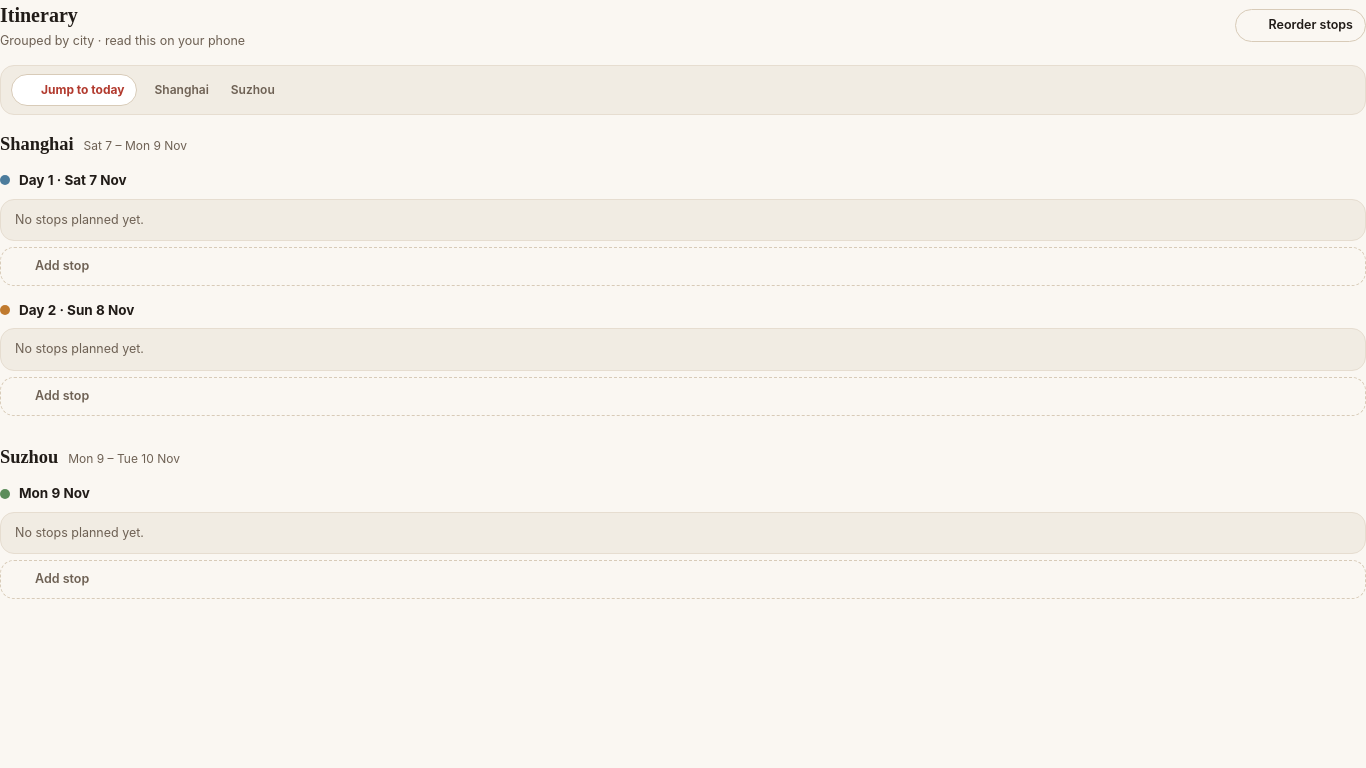
Test: ItineraryPanel — Add stop place picker › filters the offered places by the search box once it appears
Click the button "Add stop" below "Day 1 · Sat 7 Nov": (62, 266) [0, 247, 1365, 286]
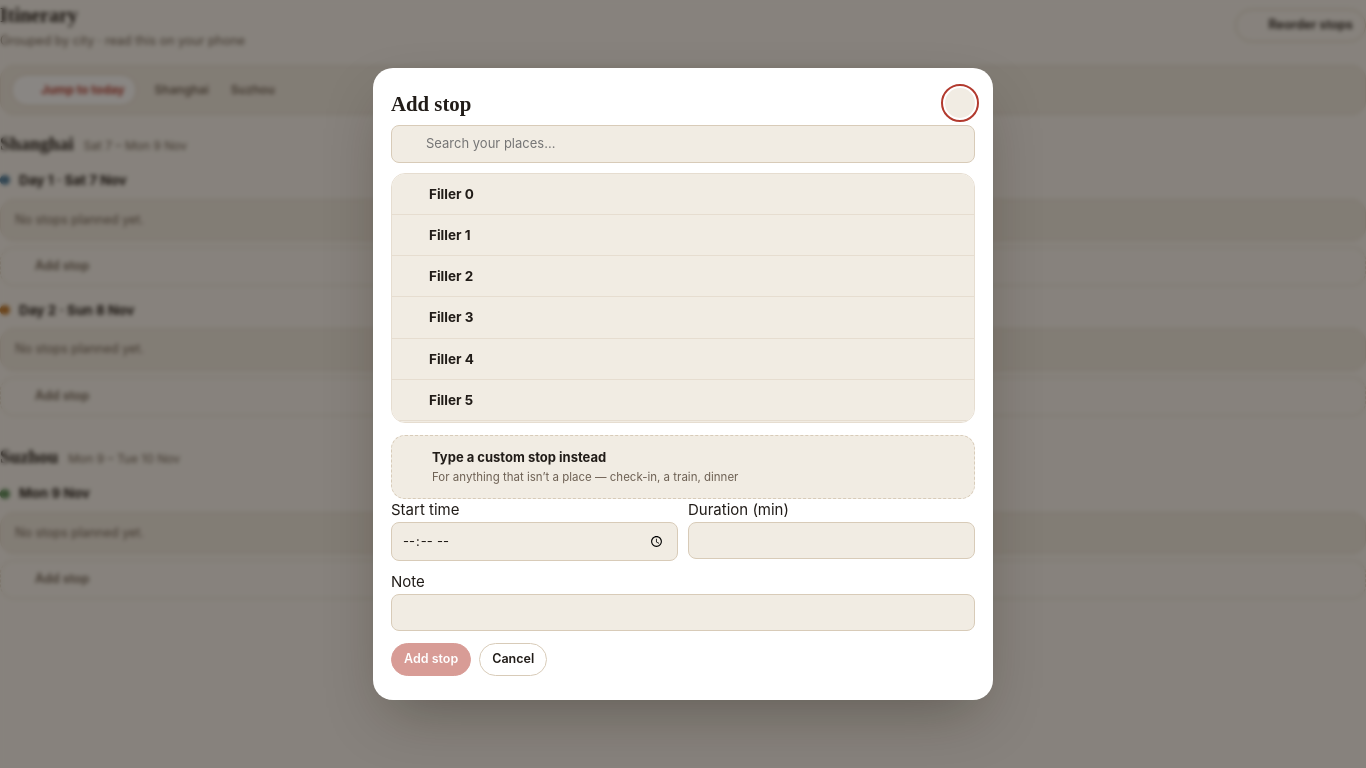
In the search field named "Filter places": (683, 144) [391, 125, 975, 163], type "bund"
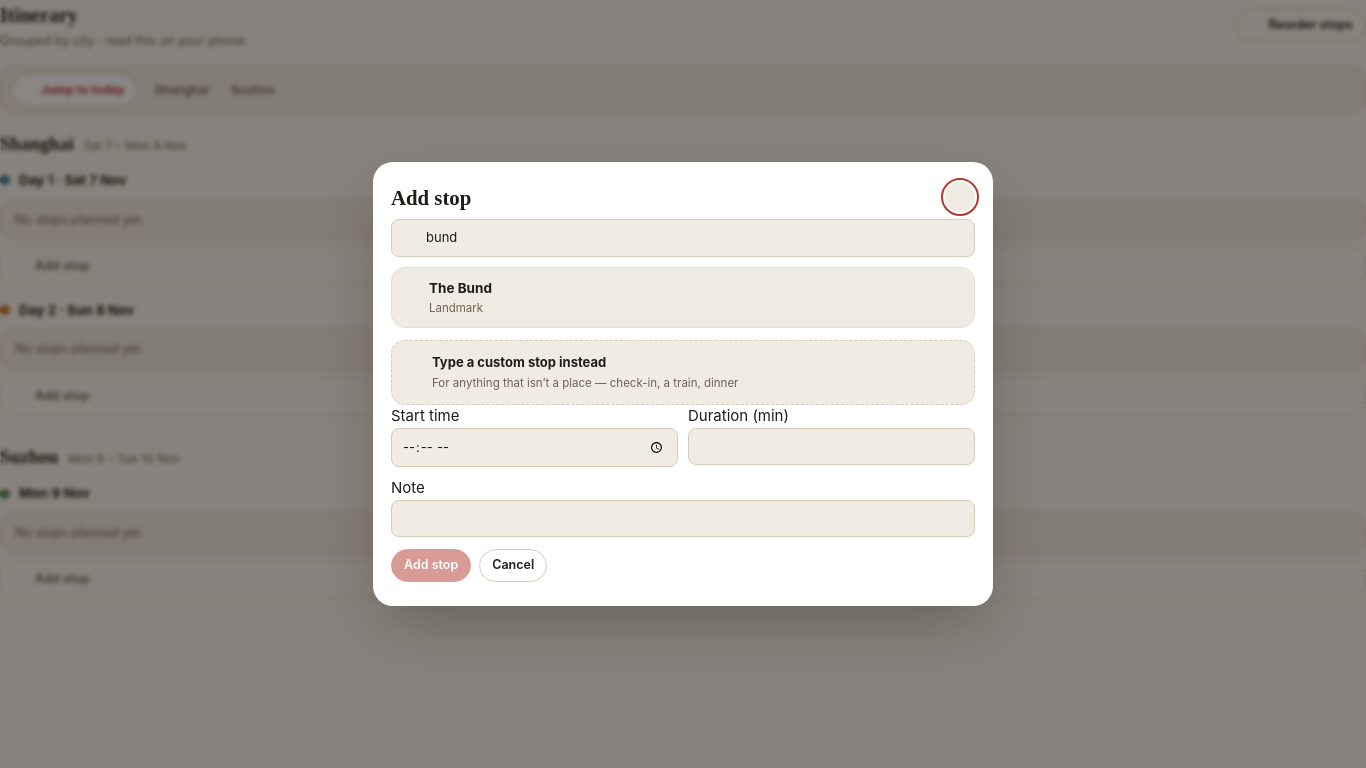
Replace the text in the search field named "Filter places" with "zzz": (683, 238) [391, 219, 975, 257]
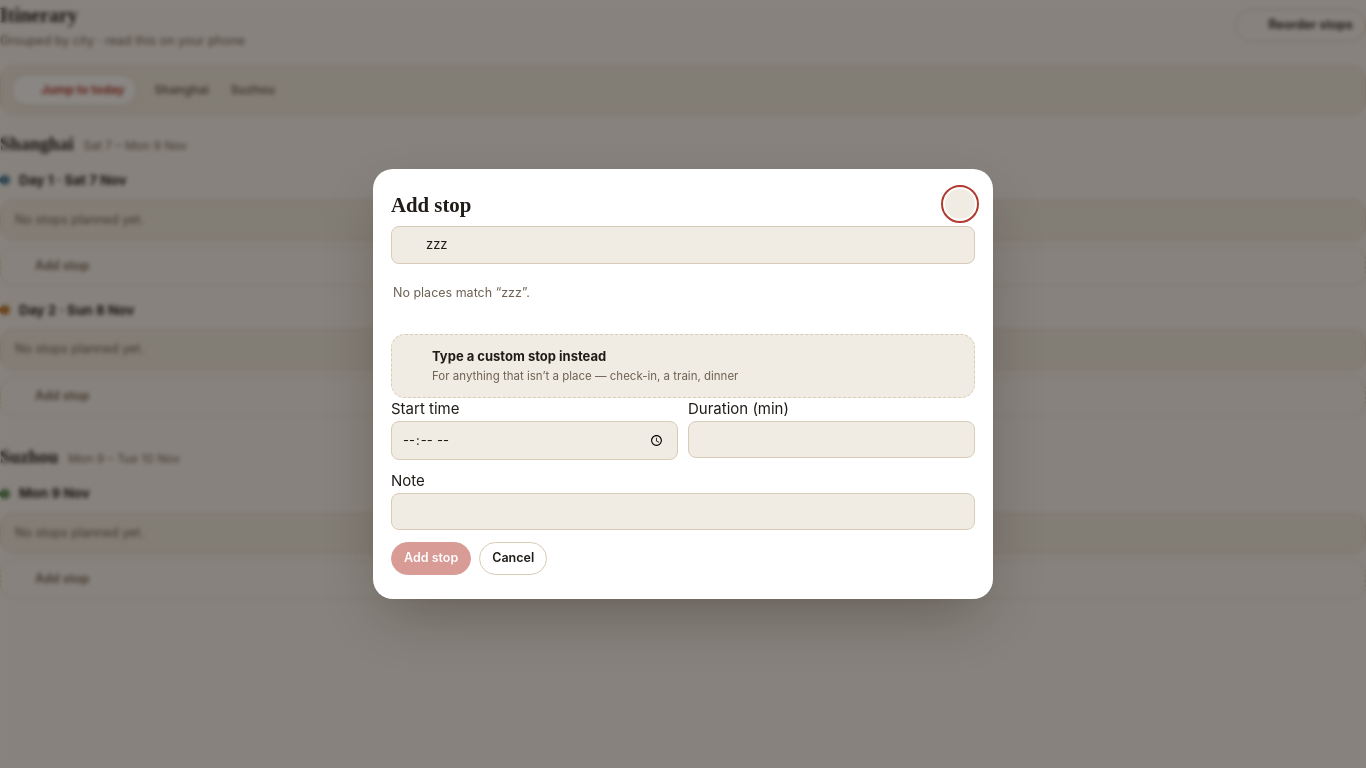
expect the text "No places match “zzz”." is shown: met, box [393, 285, 530, 300]
